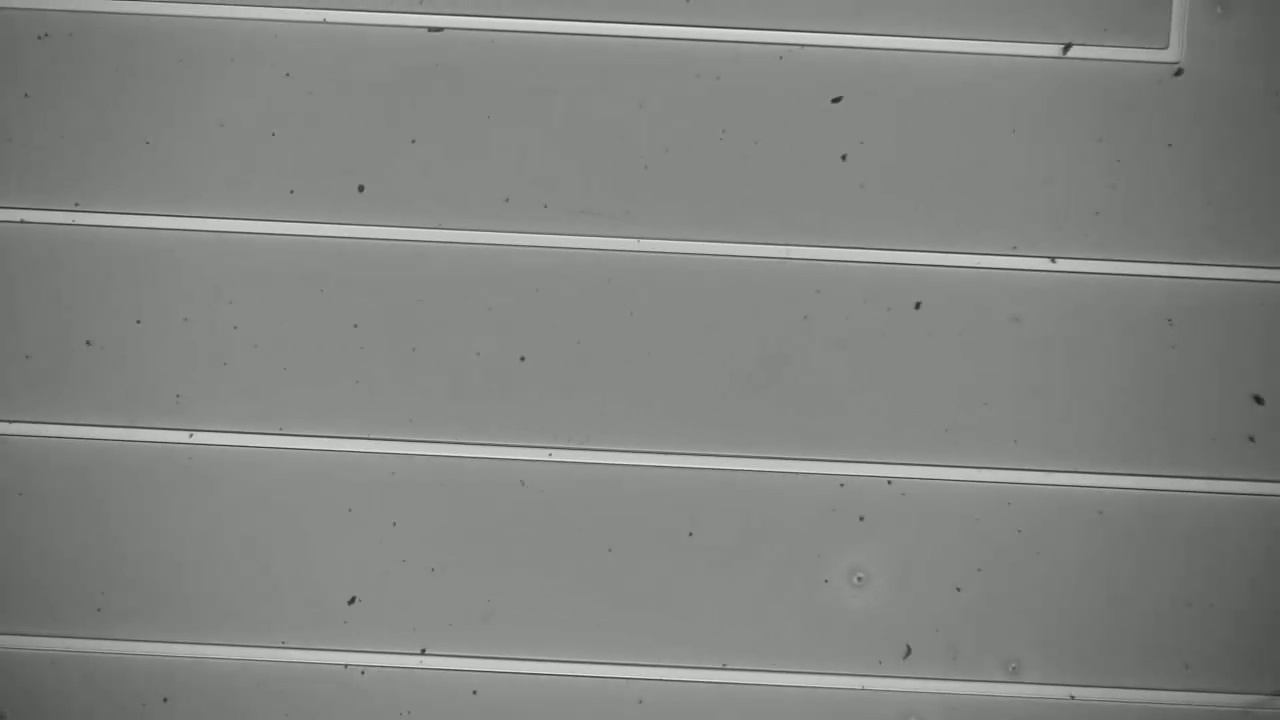stains_enbedded: (1047, 32, 1081, 68)
